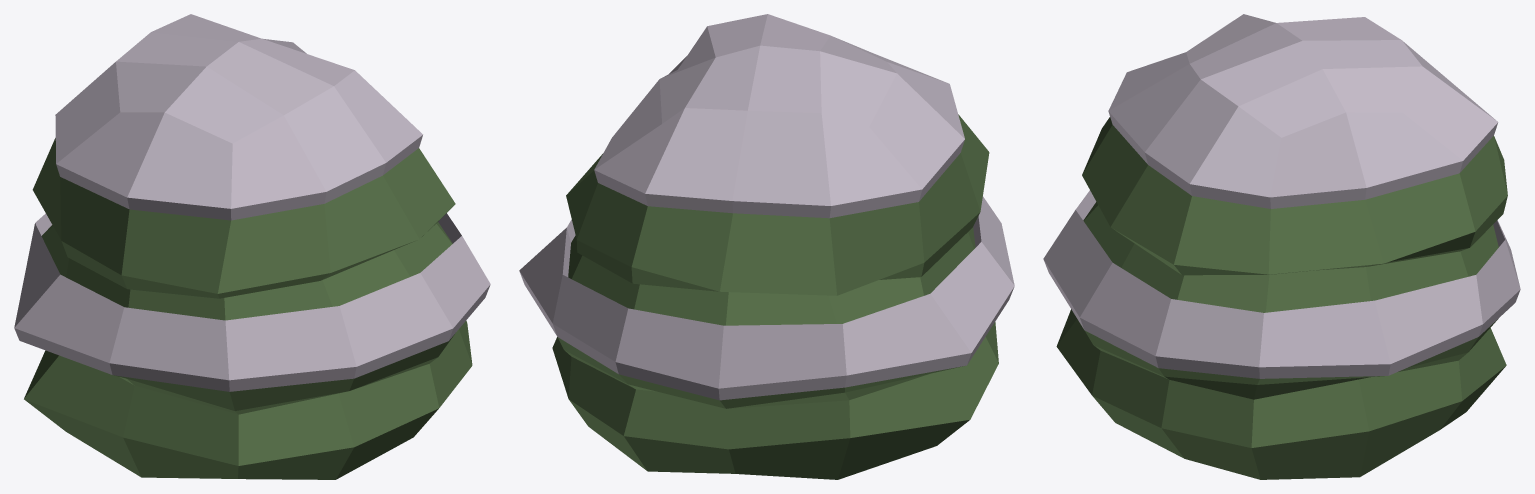
File: bush_snow.glb
3 views of the same model, side by side, from view 1: azimuth 30°, elevation 25°; view 2: azimuth 150°, elevation 25°; view 3: azimuth 270°, elevation 25° (orthographic). The views are drawn at different scales.
Visible parts, largest first — view 1: Bush_Snow_2; view 2: Bush_Snow_2; view 3: Bush_Snow_2.
Boxes of the visible parts, box(x1,y1,x2,y2) form: Bush_Snow_2: box(14, 14, 490, 479); Bush_Snow_2: box(519, 14, 1014, 479); Bush_Snow_2: box(1043, 14, 1520, 479).
Bounding box in the file's own units: 1.36 × 1.16 × 1.36.
